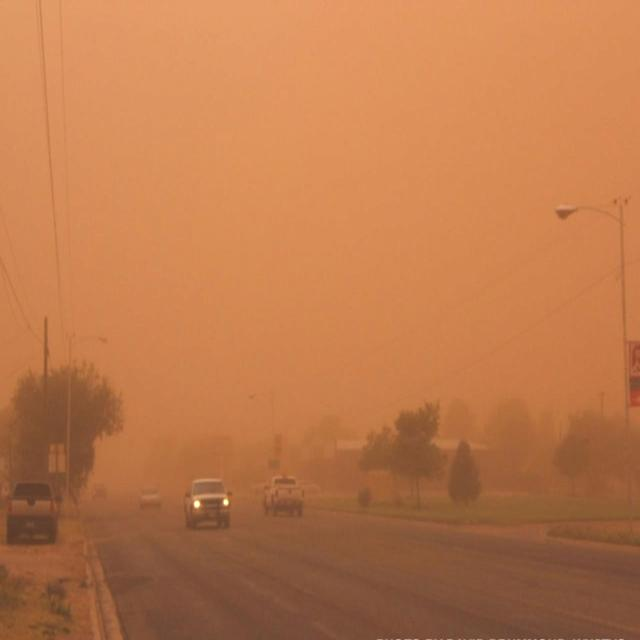Car: (182, 468, 237, 532), (4, 479, 58, 544), (263, 475, 306, 517), (139, 485, 162, 508), (293, 479, 321, 496), (92, 482, 107, 500), (252, 480, 268, 496)
